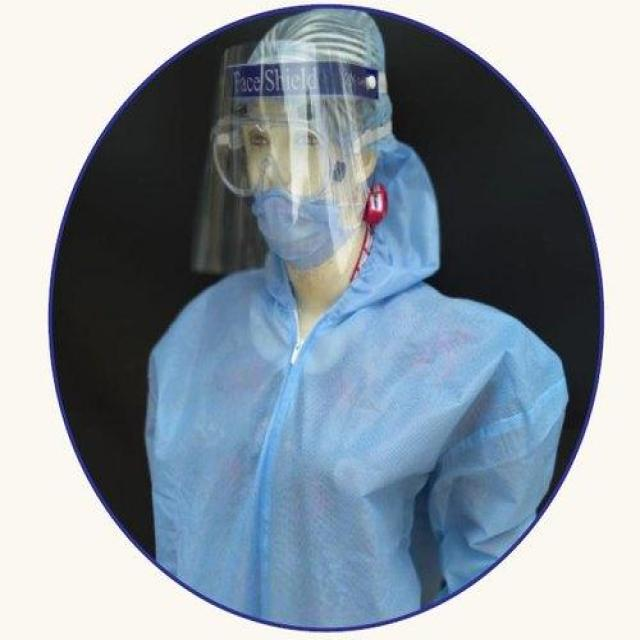Coverall: (128, 21, 545, 604)
Goggles: (200, 102, 356, 194)
Mask: (238, 178, 371, 261)
